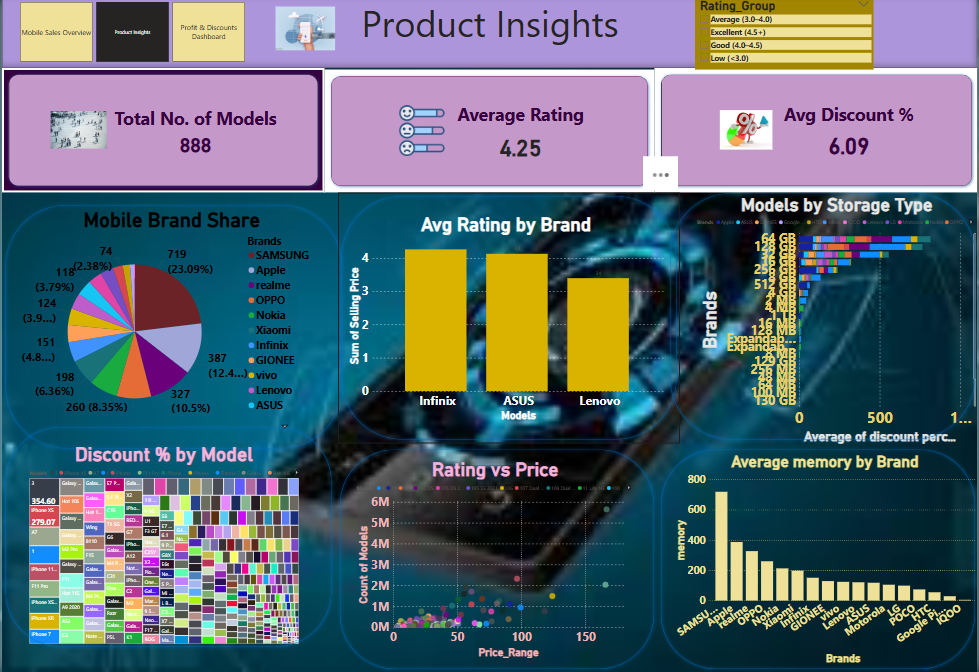

What the dashboard file says about the page in this screenshot:
{"tool":"powerbi","page":{"name":"Product Insights","canvas":[2600,1800],"ordinal":1},"visuals":[{"type":"textbox","box":[0,0,2600.2,191.7],"z":0},{"type":"image","box":[724.1,10.3,169,148.3],"z":1000},{"type":"cardVisual","fields":{"Data":["Count(mobilesalesdtaset.Models)"]},"box":[0,191.7,858.7,331.5],"z":2000},{"type":"cardVisual","fields":{"Data":["Avg(mobilesalesdtaset.Rating)"]},"box":[858.7,195.7,878.7,327.5],"z":3000},{"type":"cardVisual","fields":{"Data":["Avg(mobilesalesdtaset.Discount_Percent)"]},"box":[1737.5,191.7,862.7,331.5],"z":4000},{"type":"pieChart","title":"Mobile Brand Share","fields":{"Category":["mobilesalesdtaset.Brands"],"Y":["CountNonNull(mobilesalesdtaset.Models)"]},"box":[49.9,562.5,808.8,595.8],"z":5000},{"type":"shape","box":[0,547.2,914.7,667],"z":6000},{"type":"clusteredColumnChart","title":"Avg Rating by Brand","fields":{"Category":["mobilesalesdtaset.Brands"],"Y":["Avg(mobilesalesdtaset.Rating)"]},"box":[914.7,579.2,854.8,559.2],"z":7000},{"type":"shape","box":[894.7,523.2,910.7,667],"z":8000},{"type":"barChart","title":"Models by Storage Type","fields":{"Category":["mobilesalesdtaset.Storage"],"Series":["mobilesalesdtaset.Brands"],"Y":["CountNonNull(mobilesalesdtaset.Models)"]},"box":[1845,527.5,755,670],"z":9000},{"type":"shape","box":[1769.4,515.2,830.8,675],"z":10000},{"type":"treemap","title":"Discount % by Model","fields":{"Group":["mobilesalesdtaset.Models"],"Values":["Sum(mobilesalesdtaset.Discount_Percent)"]},"box":[67.9,1190.3,726.9,539.2],"z":11000},{"type":"shape","box":[0,1138.3,886.7,603.1],"z":12000},{"type":"scatterChart","title":"Rating vs Price","fields":{"X":["Sum(mobilesalesdtaset.Rating)"],"Y":["Sum(mobilesalesdtaset.Selling Price)"],"Series":["mobilesalesdtaset.Models"]},"box":[940,1230,750,537.5],"z":13000},{"type":"shape","box":[890.7,1198.3,854.8,603.1],"z":14000},{"type":"slicer","title":"Profit Margin Analysis","fields":{"Values":["mobilesalesdtaset.Rating_Group"]},"box":[1845.3,0,475.3,195.7],"z":15000},{"type":"shape","box":[1745.5,1198.3,854.8,603.1],"z":16000},{"type":"clusteredColumnChart","title":"Average memory by Brand","fields":{"Category":["mobilesalesdtaset.Brands"],"Y":["CountNonNull(mobilesalesdtaset.Memory)"]},"box":[1780,1213.3,820,570],"z":17000},{"type":"pageNavigator","box":[47.9,16,599.1,159.8],"z":18000}]}

Visuals, with their boxes on the page's 2600x1800 design canvas (x1, y1, x2, y2). These are canvas units, not pixel positions in the 979x672 screenshot, which may show the page scaled, cropped or inside an application window:
textbox: {"x1": 0, "y1": 0, "x2": 2600, "y2": 192}
image: {"x1": 724, "y1": 10, "x2": 893, "y2": 159}
cardVisual - Count(mobilesalesdtaset.Models): {"x1": 0, "y1": 192, "x2": 859, "y2": 523}
cardVisual - Avg(mobilesalesdtaset.Rating): {"x1": 859, "y1": 196, "x2": 1737, "y2": 523}
cardVisual - Avg(mobilesalesdtaset.Discount_Percent): {"x1": 1738, "y1": 192, "x2": 2600, "y2": 523}
"Mobile Brand Share" pieChart: {"x1": 50, "y1": 562, "x2": 859, "y2": 1158}
shape: {"x1": 0, "y1": 547, "x2": 915, "y2": 1214}
"Avg Rating by Brand" clusteredColumnChart: {"x1": 915, "y1": 579, "x2": 1770, "y2": 1138}
shape: {"x1": 895, "y1": 523, "x2": 1805, "y2": 1190}
"Models by Storage Type" barChart: {"x1": 1845, "y1": 528, "x2": 2600, "y2": 1198}
shape: {"x1": 1769, "y1": 515, "x2": 2600, "y2": 1190}
"Discount % by Model" treemap: {"x1": 68, "y1": 1190, "x2": 795, "y2": 1730}
shape: {"x1": 0, "y1": 1138, "x2": 887, "y2": 1741}
"Rating vs Price" scatterChart: {"x1": 940, "y1": 1230, "x2": 1690, "y2": 1768}
shape: {"x1": 891, "y1": 1198, "x2": 1746, "y2": 1801}
"Profit Margin Analysis" slicer: {"x1": 1845, "y1": 0, "x2": 2321, "y2": 196}
shape: {"x1": 1746, "y1": 1198, "x2": 2600, "y2": 1801}
"Average memory by Brand" clusteredColumnChart: {"x1": 1780, "y1": 1213, "x2": 2600, "y2": 1783}
pageNavigator: {"x1": 48, "y1": 16, "x2": 647, "y2": 176}
